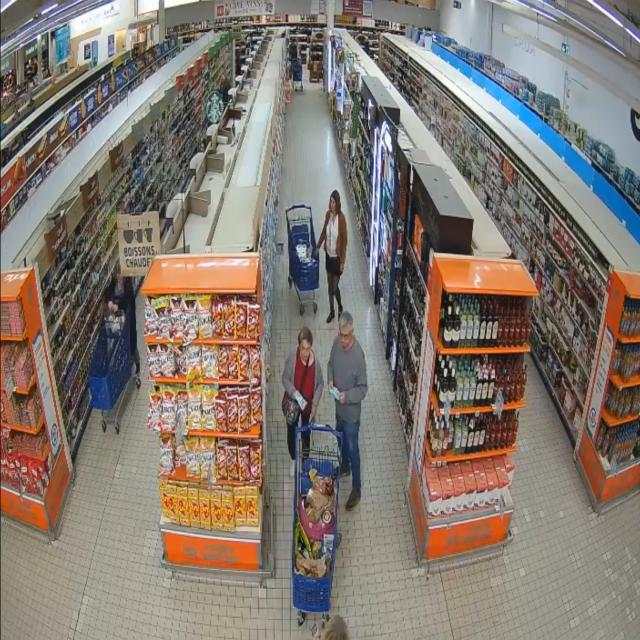article: (294, 390, 308, 412), (330, 388, 340, 400)
bags: (282, 391, 301, 424)
hands: (310, 403, 317, 420), (338, 392, 346, 404), (313, 247, 319, 257), (108, 301, 113, 312), (112, 304, 118, 313), (339, 261, 343, 274), (329, 381, 333, 390)
person: (328, 312, 368, 510), (282, 327, 323, 477), (317, 191, 347, 322), (107, 275, 140, 375)
